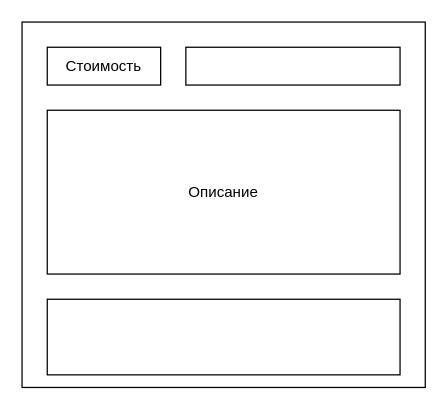
The diagram is 447 pixels wide and 410 high, and some of its shapes have lost their labels. The centre of each missing label's shape, as x and y in pixels:
"Купить" belongs at [223,336].
"Навание" belongs at [292,65].
